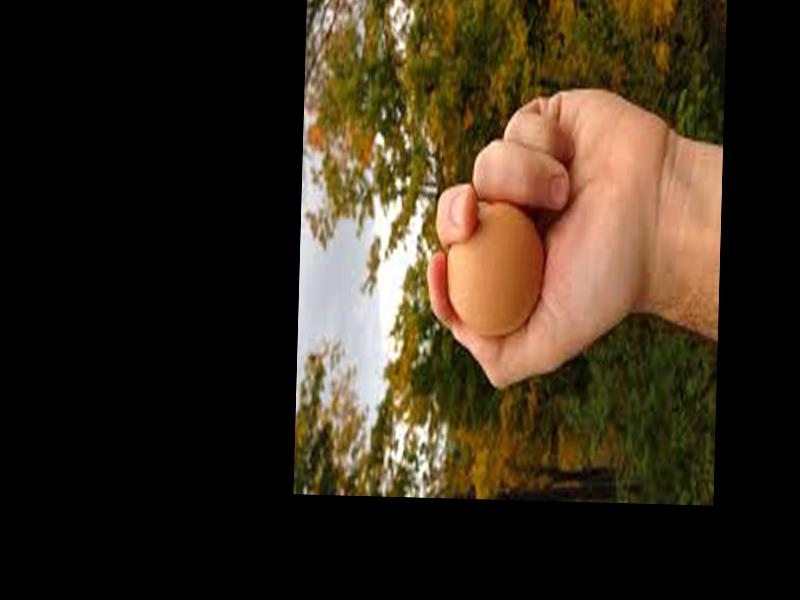Eggs: (445, 194, 545, 335)
